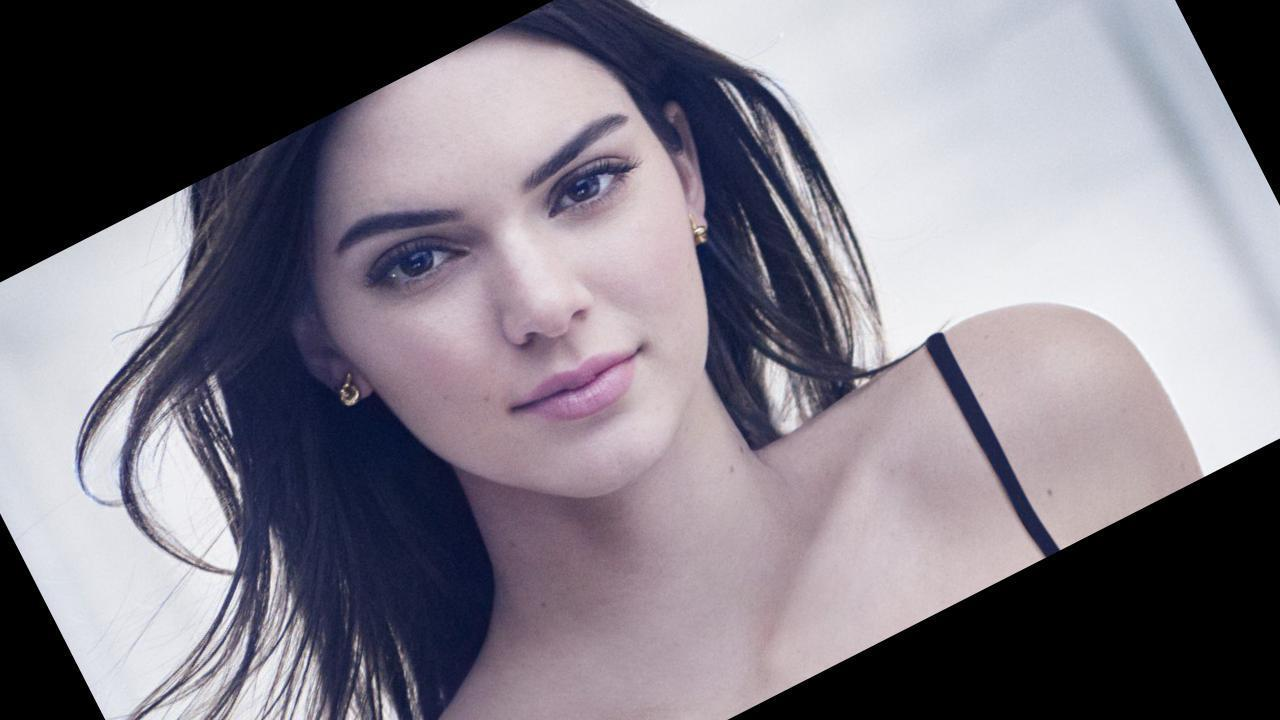Sober: (344, 105, 698, 484)
